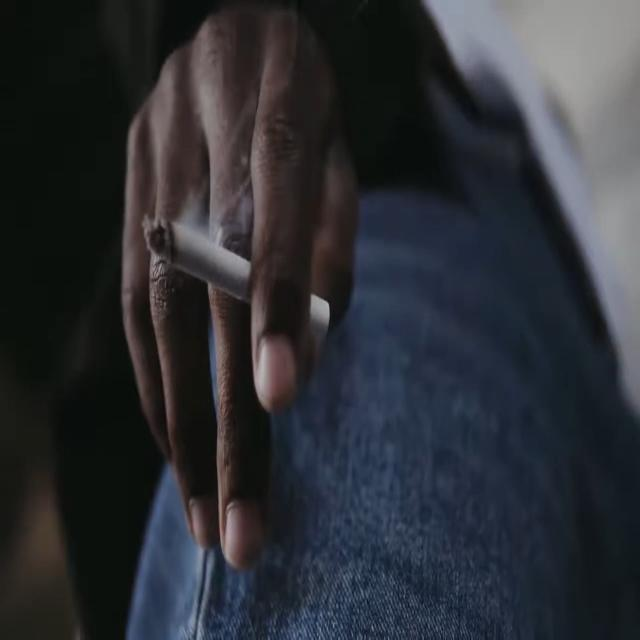Курение: (139, 212, 331, 354)
